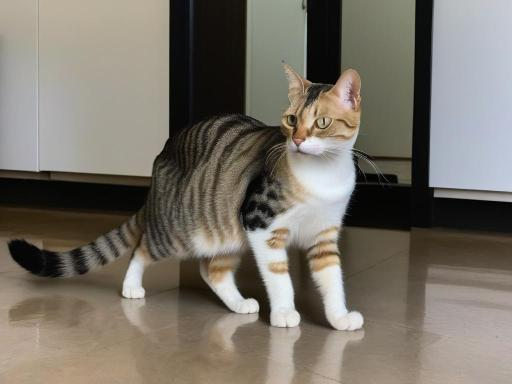cat_standing: (8, 62, 363, 330)
